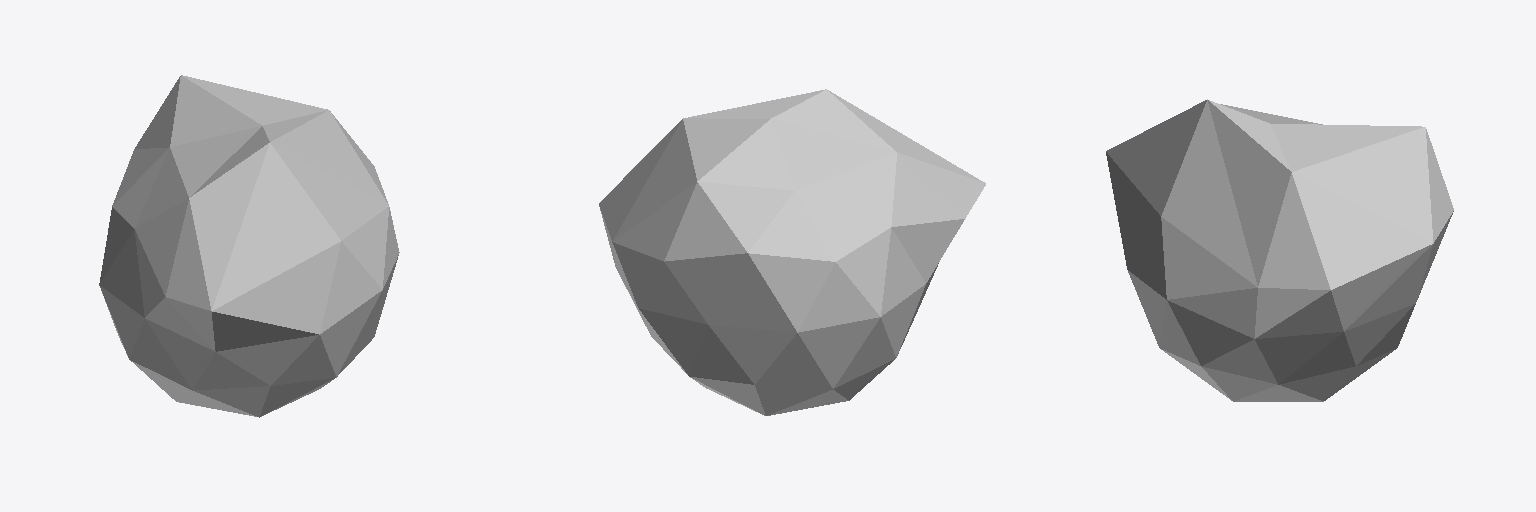
File: rock_1.obj
The picture shows the model from 3 angles: view 1: azimuth 30°, elevation 25°; view 2: azimuth 150°, elevation 25°; view 3: azimuth 270°, elevation 25°; orthographic projection.
Visible parts, largest first — view 1: Icosphere; view 2: Icosphere; view 3: Icosphere.
Boxes of the visible parts, x1=… form: Icosphere: x1=99, y1=75, x2=399, y2=417; Icosphere: x1=599, y1=89, x2=985, y2=415; Icosphere: x1=1106, y1=99, x2=1453, y2=401.
Bounding box in the file's own units: 2.26 × 2.18 × 2.37.